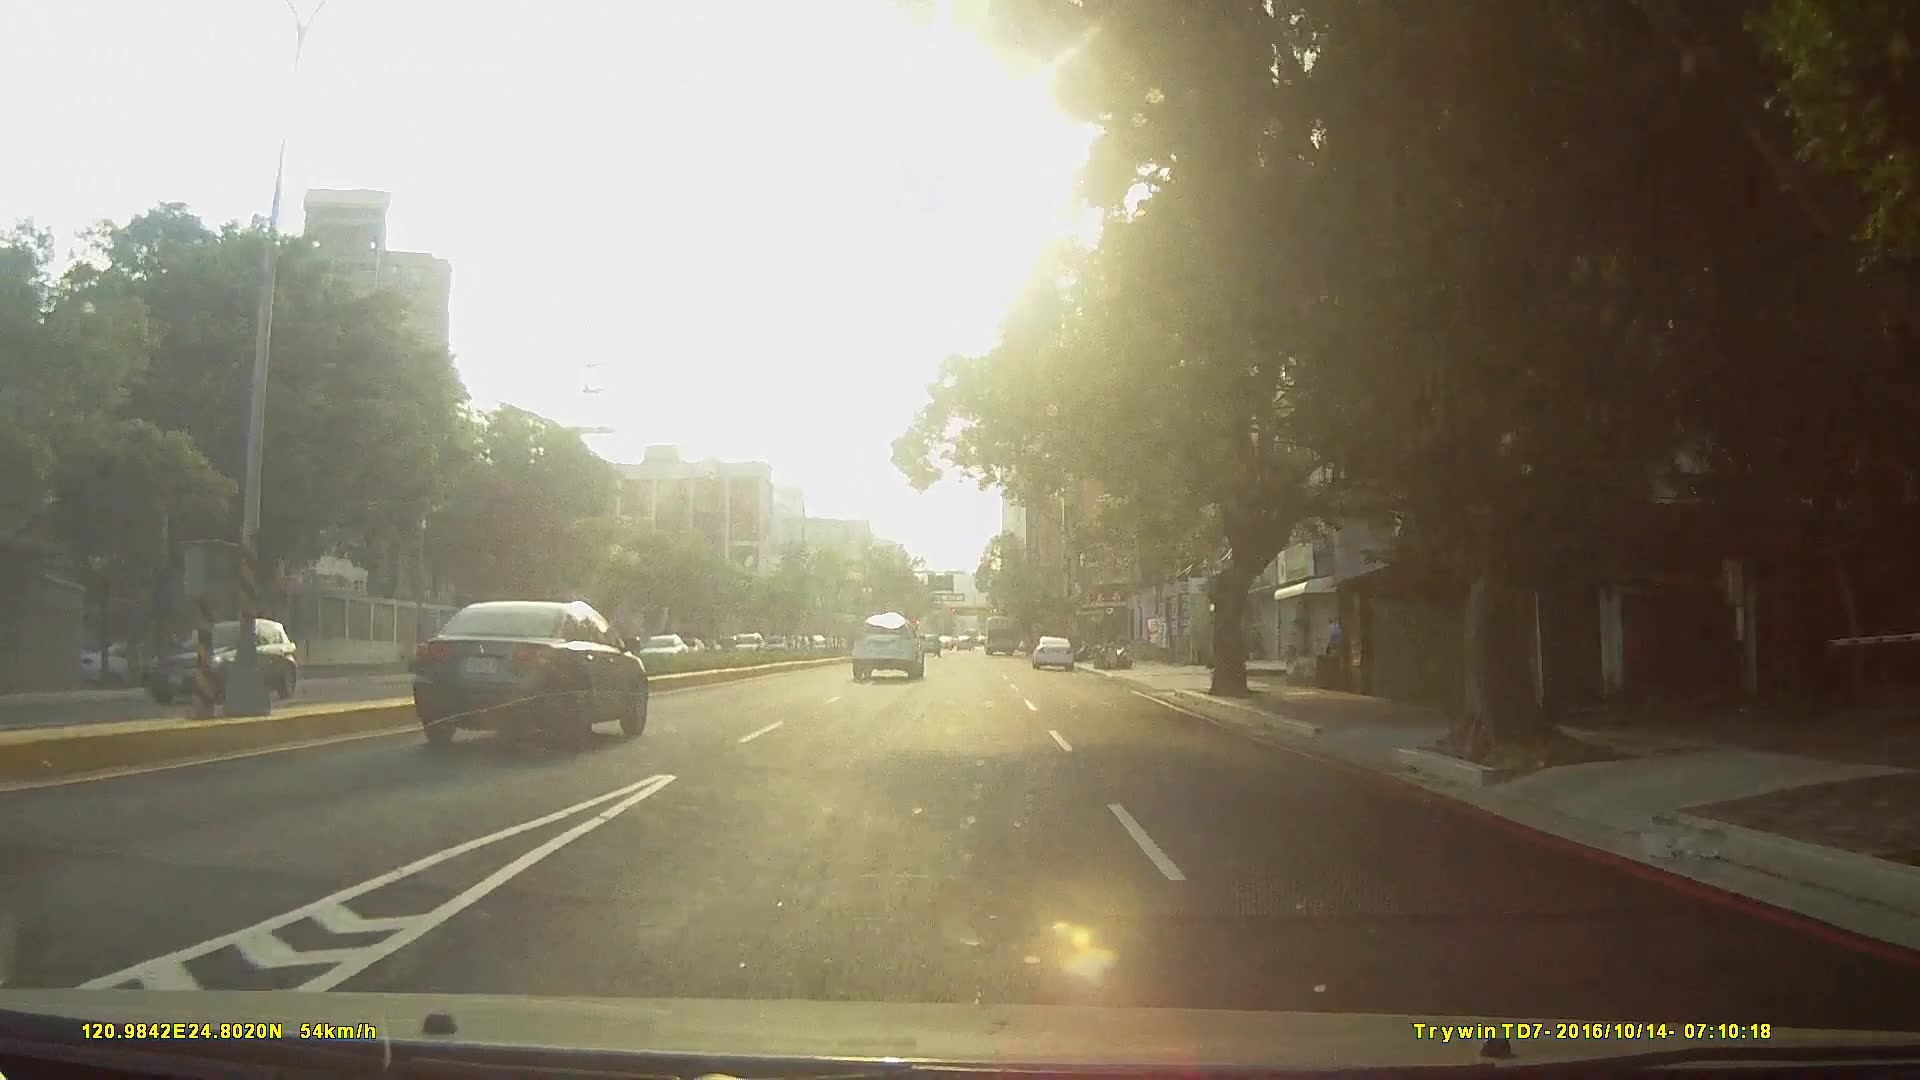pedestrian: (1326, 615, 1346, 659)
vehicle: (415, 597, 652, 752), (118, 612, 304, 719), (850, 609, 927, 679), (1030, 635, 1075, 675), (980, 615, 1018, 659)
